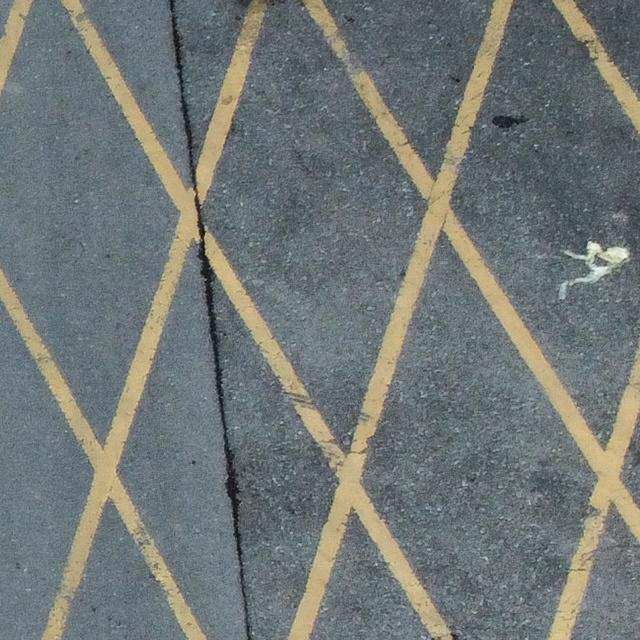LongitudinalCrack: (169, 1, 250, 639)
